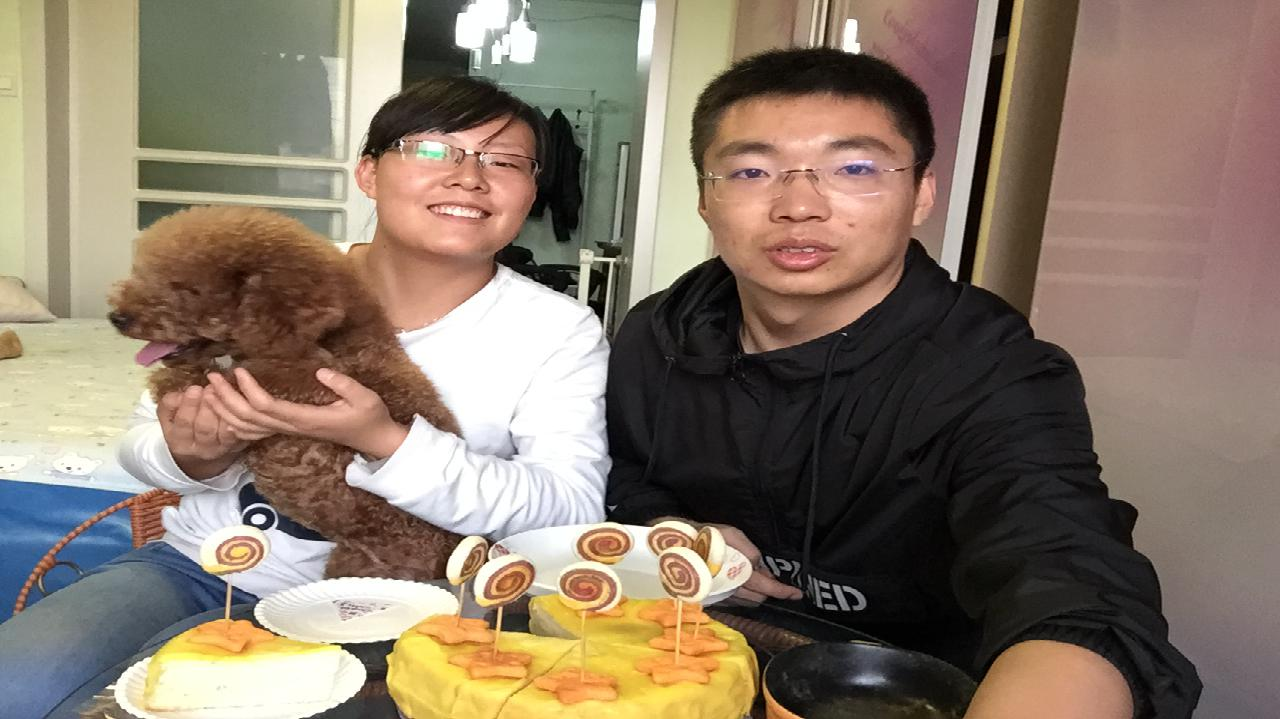zhuangzhuang: (109, 197, 417, 475)
